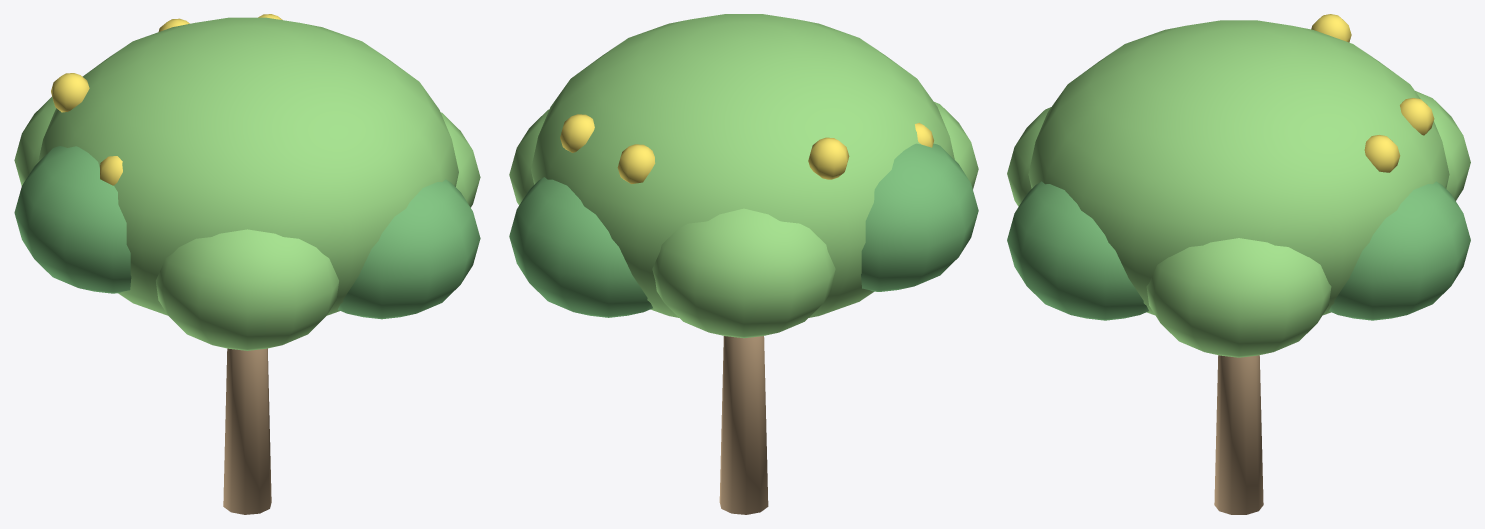
The model's file is Prop_Angsana.fbx.
3 views of the same model, side by side, from view 1: azimuth 30°, elevation 25°; view 2: azimuth 150°, elevation 25°; view 3: azimuth 270°, elevation 25° (orthographic).
Parts seen in each view (by area): view 1: Prop_Angsana; view 2: Prop_Angsana; view 3: Prop_Angsana.
Boxes of the visible parts, x1,y1,x2,y2 form: Prop_Angsana: (14,14,480,514); Prop_Angsana: (509,14,978,514); Prop_Angsana: (1007,14,1470,514).
Size of the model in its own units: 7.2 by 7.2 by 6.61.
